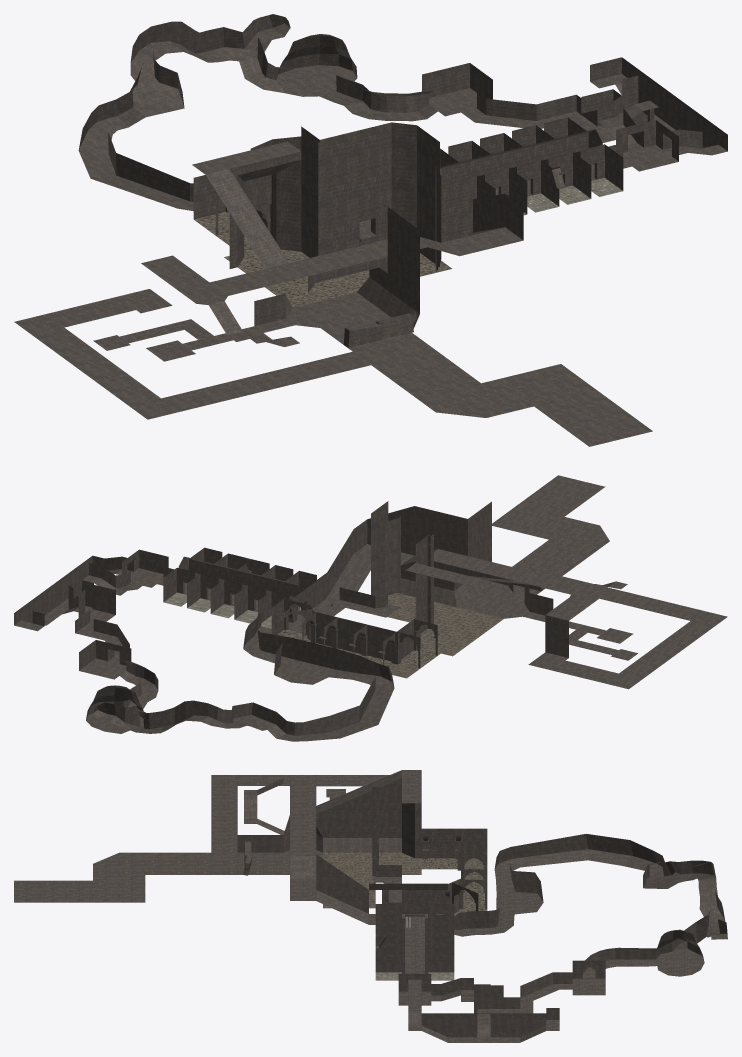
Rendered from map1_1.gltf.
3 views of the same model, one above another, from view 1: azimuth 30°, elevation 25°; view 2: azimuth 150°, elevation 25°; view 3: azimuth 270°, elevation 25° (orthographic). The views are drawn at different scales.
Parts seen in each view (by area): view 1: Plane.004, Plane.002, Plane.005, Cube, Plane.001, Corner4.002, Corner4.001, Corner4, Corner4.004, Corner4.005, Wall.001, Wall.002 (+6 smaller); view 2: Plane.004, Plane.002, Plane.005, Cube, Plane.001, Corner2, Corridor1.002, Corridor1.001, Corridor1, Corridor1.004, Corner1, Corner4.002; view 3: Plane.004, Plane.002, Plane.005, Cube, Plane.001, Corridor1, Corner2, Corner1, Corner3, Corner3.002, Corridor1.002.
Boxes of the visible parts, x1,y1,x2,y2 form: Plane.004: [14, 141, 652, 446]; Plane.002: [78, 14, 437, 211]; Plane.005: [422, 57, 727, 171]; Cube: [440, 117, 623, 215]; Plane.001: [440, 129, 602, 195]; Corner4.002: [301, 126, 351, 184]; Corner4.001: [301, 168, 351, 225]; Corner4: [301, 210, 351, 257]; Corner4.004: [383, 164, 421, 211]; Corner4.005: [383, 122, 421, 169]; Wall.001: [351, 166, 383, 215]; Wall.002: [351, 124, 383, 173]; Plane.004: [288, 475, 727, 689]; Plane.002: [86, 613, 394, 741]; Plane.005: [14, 549, 174, 679]; Cube: [163, 547, 316, 628]; Plane.001: [178, 556, 307, 619]; Corner2: [271, 598, 316, 643]; Corridor1.002: [337, 617, 367, 657]; Corridor1.001: [365, 624, 396, 667]; Corridor1: [396, 619, 436, 668]; Corridor1.004: [314, 611, 338, 648]; Corner1: [389, 631, 419, 678]; Corner4.002: [415, 534, 433, 574]; Plane.004: [14, 770, 447, 924]; Plane.002: [454, 834, 727, 978]; Plane.005: [398, 960, 605, 1042]; Cube: [375, 904, 454, 980]; Plane.001: [405, 898, 424, 983]; Corridor1: [428, 828, 461, 869]; Corner2: [444, 878, 487, 915]; Corner1: [457, 828, 487, 870]; Corner3: [402, 823, 421, 858]; Corner3.002: [402, 803, 421, 828]; Corridor1.002: [461, 855, 487, 897].
Size of the model in its own units: 90 by 18 by 109.
14 materials, 14 textured.
